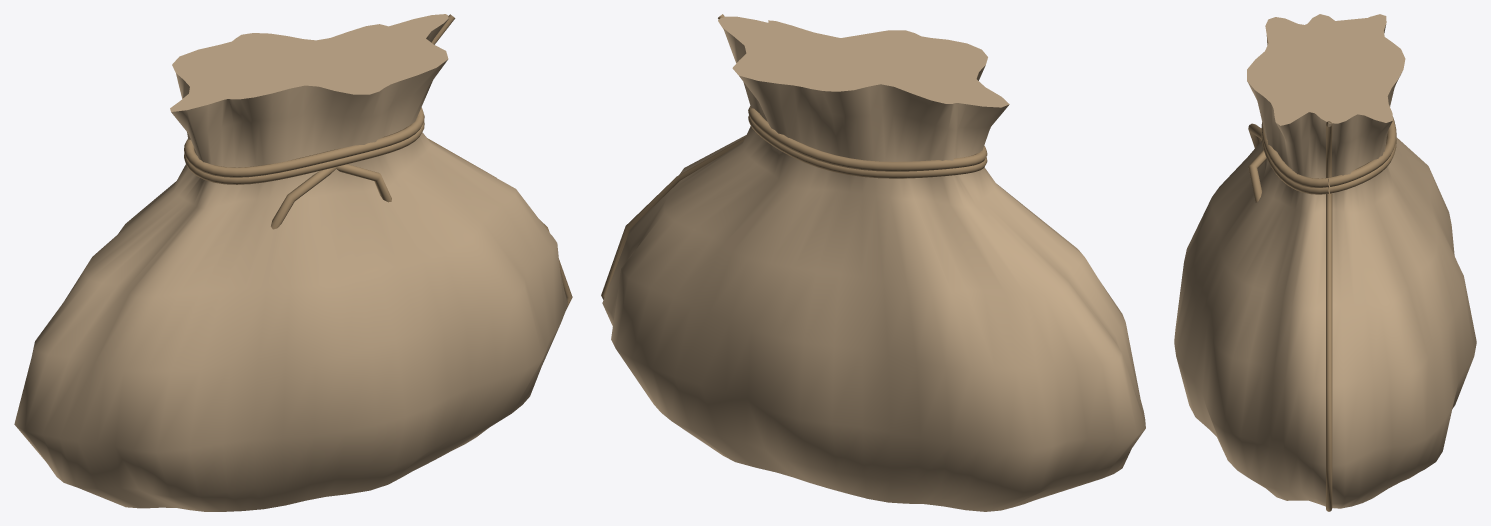
File: bag0.glb
3 renders of one model, left to right at view 1: azimuth 30°, elevation 25°; view 2: azimuth 150°, elevation 25°; view 3: azimuth 270°, elevation 25°, orthographic. The views are drawn at different scales.
Parts seen in each view (by area): view 1: Unbleached canvas, Bound seam cord; view 2: Unbleached canvas, Bound seam cord; view 3: Unbleached canvas, Bound seam cord.
Boxes of the visible parts, x1,y1,x2,y2 form: Unbleached canvas: [14, 14, 567, 511]; Bound seam cord: [184, 14, 572, 309]; Unbleached canvas: [602, 16, 1145, 511]; Bound seam cord: [601, 14, 987, 299]; Unbleached canvas: [1174, 14, 1476, 508]; Bound seam cord: [1248, 116, 1396, 511].
Bounding box in the file's own units: 0.4972 × 0.3502 × 0.253.
